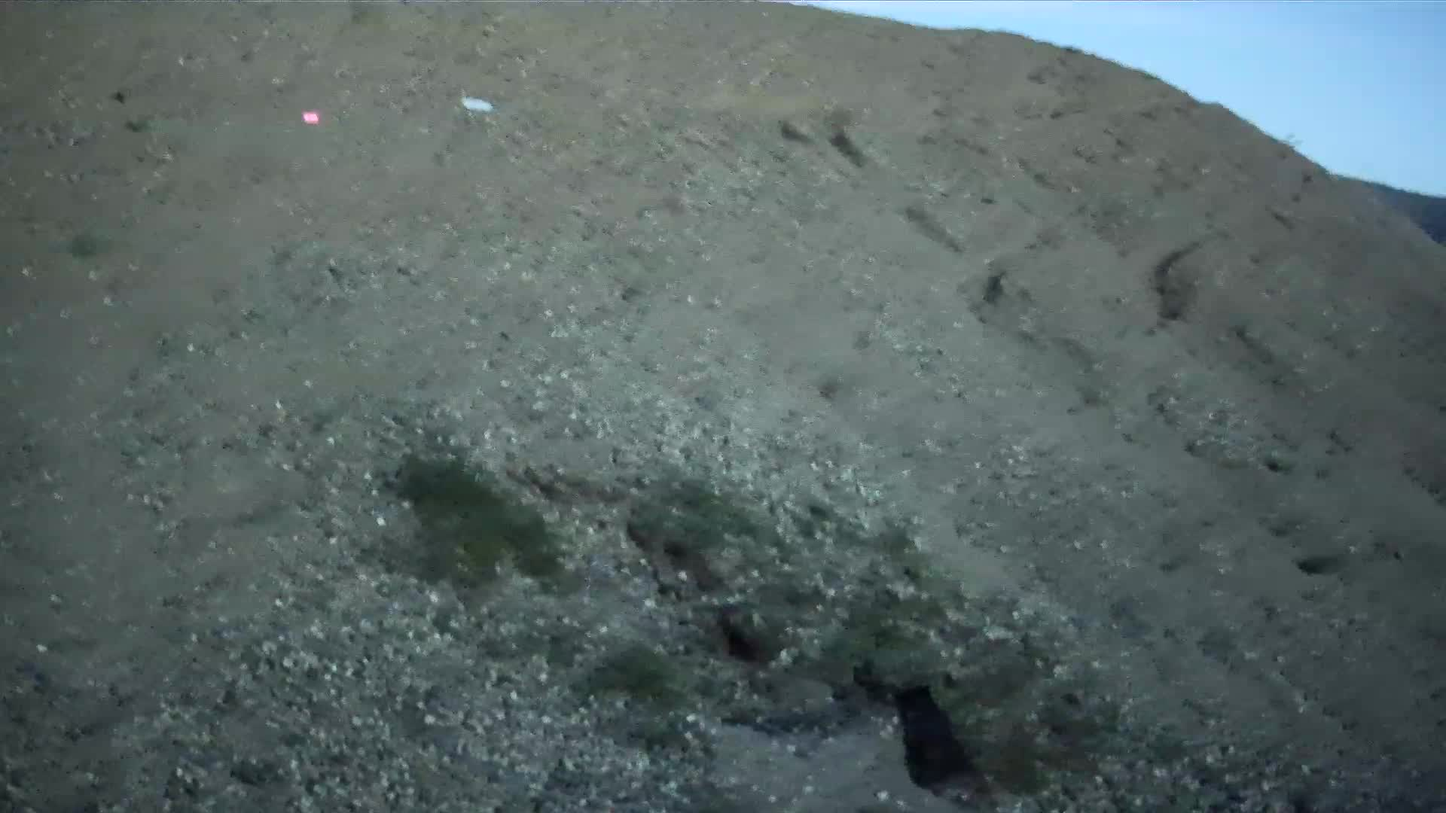Target: (459, 91, 498, 113)
